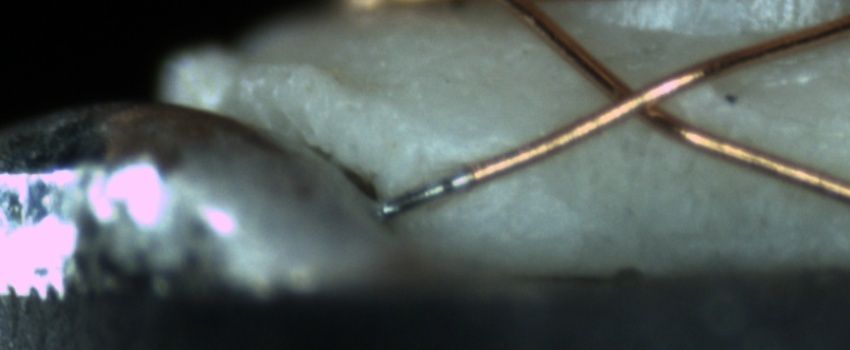CL: (583, 62, 688, 133)
TS: (379, 169, 473, 216)
TTCW: (375, 143, 529, 219)
